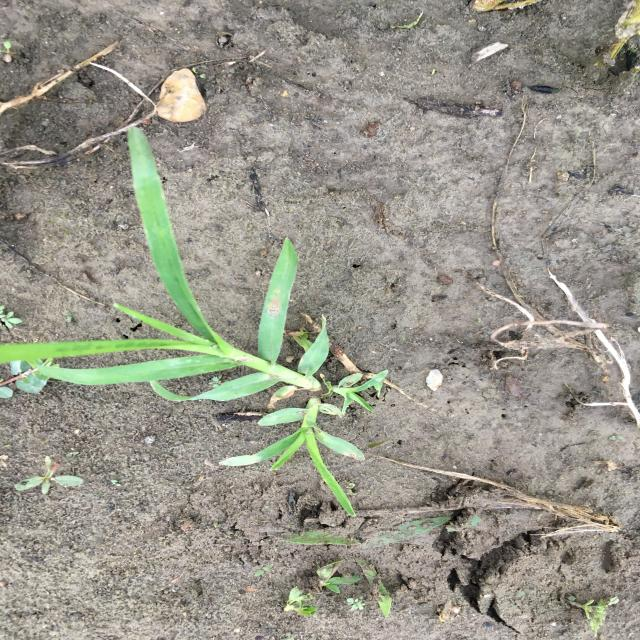Goosegrass: (2, 125, 392, 519)
